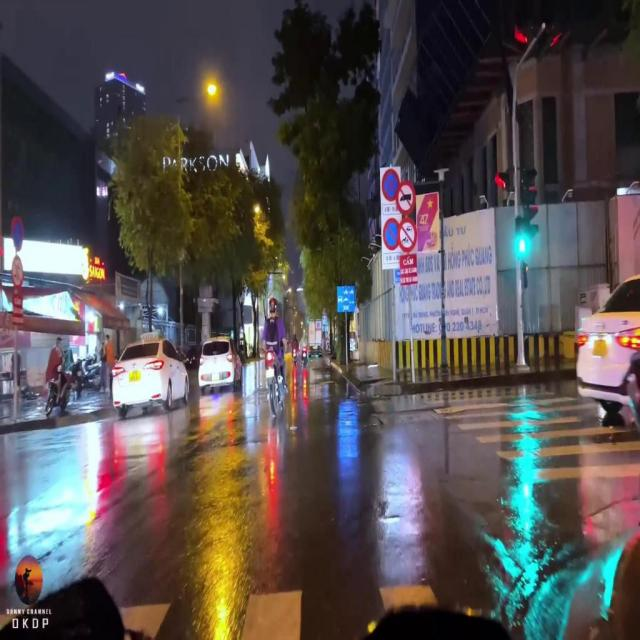cam_cac_loai_xe_3_banh: (397, 218, 417, 253), (12, 256, 24, 290)
cam_do_xe: (383, 218, 400, 250), (12, 217, 24, 252)
cam_dung_xe_va_do_xe: (382, 169, 400, 201)
cam_o_to_tai: (396, 180, 416, 216)
lan_duong_cho_tung_xe_theo_vach_ke_duong: (338, 286, 354, 312)
